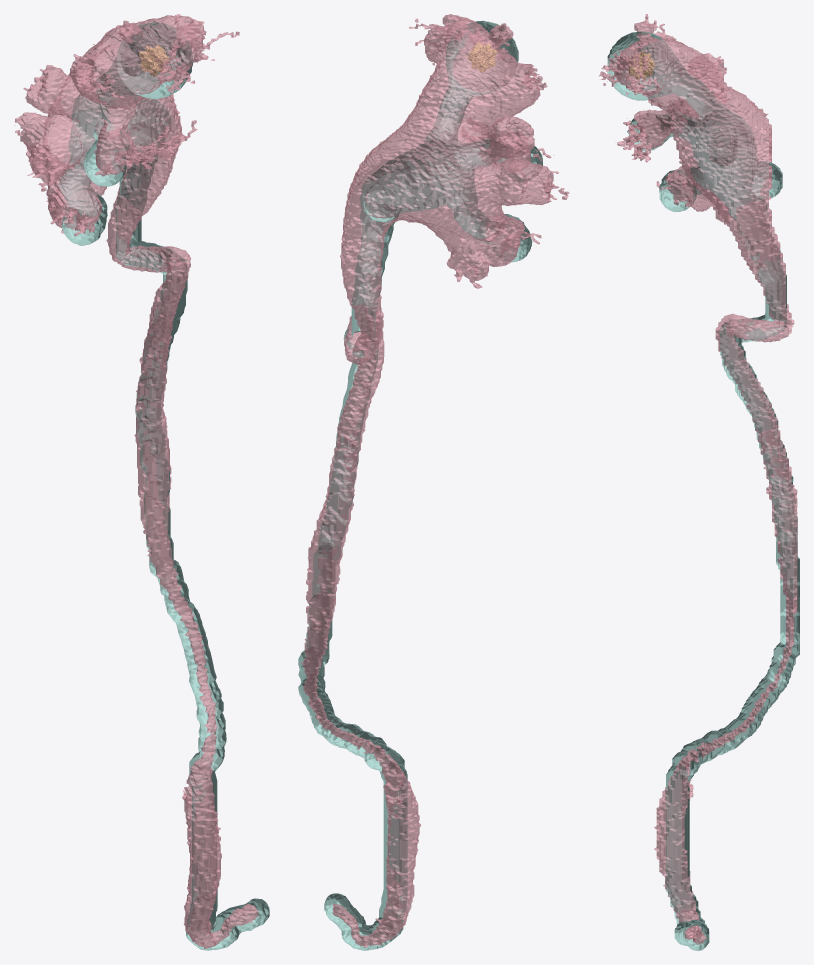
File: left-renal-tract.glb
3 renders of one model, left to right at view 1: azimuth 30°, elevation 25°; view 2: azimuth 150°, elevation 25°; view 3: azimuth 270°, elevation 25°, orthographic. The views are drawn at different scales.
Visible parts, largest first — view 1: left_urotract_lumen, simulated_scope_lumen, simulated_stone; view 2: left_urotract_lumen, simulated_scope_lumen, simulated_stone; view 3: left_urotract_lumen, simulated_scope_lumen.
Boxes of the visible parts, x1,y1,x2,y2 form: left_urotract_lumen: (14,14,258,948); simulated_scope_lumen: (59,22,269,950); simulated_stone: (139,44,169,76); left_urotract_lumen: (301,14,569,947); simulated_scope_lumen: (298,20,542,950); simulated_stone: (468,42,497,72); left_urotract_lumen: (598,14,797,944); simulated_scope_lumen: (607,31,799,950).
Size of the model in its own units: 70.23 by 270 by 56.09.
